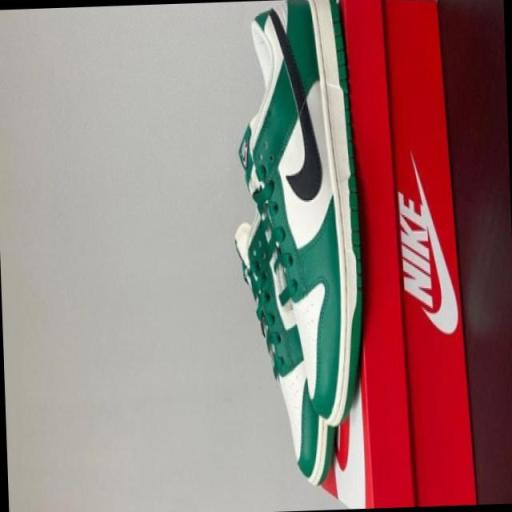Nike: (423, 194, 460, 330), (397, 192, 434, 306)
